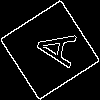A: (25, 25, 77, 69)
